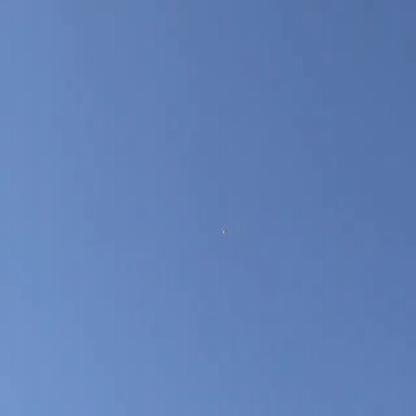CIV_Plane: (221, 226, 229, 238)
